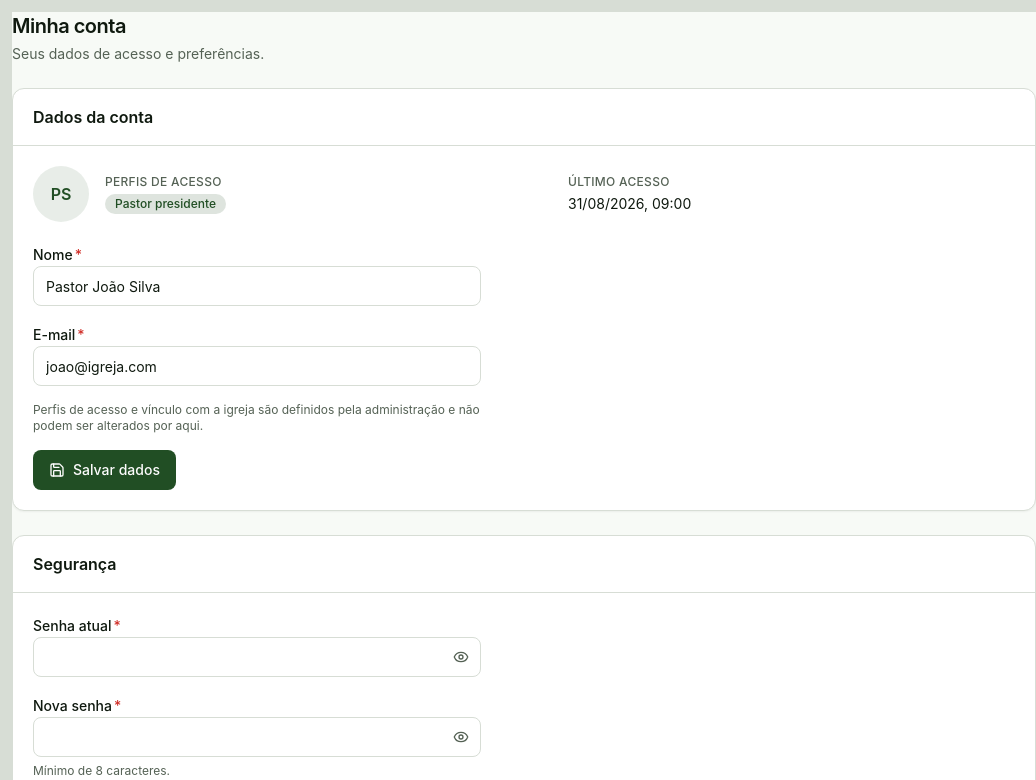
minha conta › mostra e-mail duplicado no campo de e-mail
Replace the text in the field labelled "E-mail*" with "ocupado@igreja.com": (257, 366) [33, 346, 481, 386]
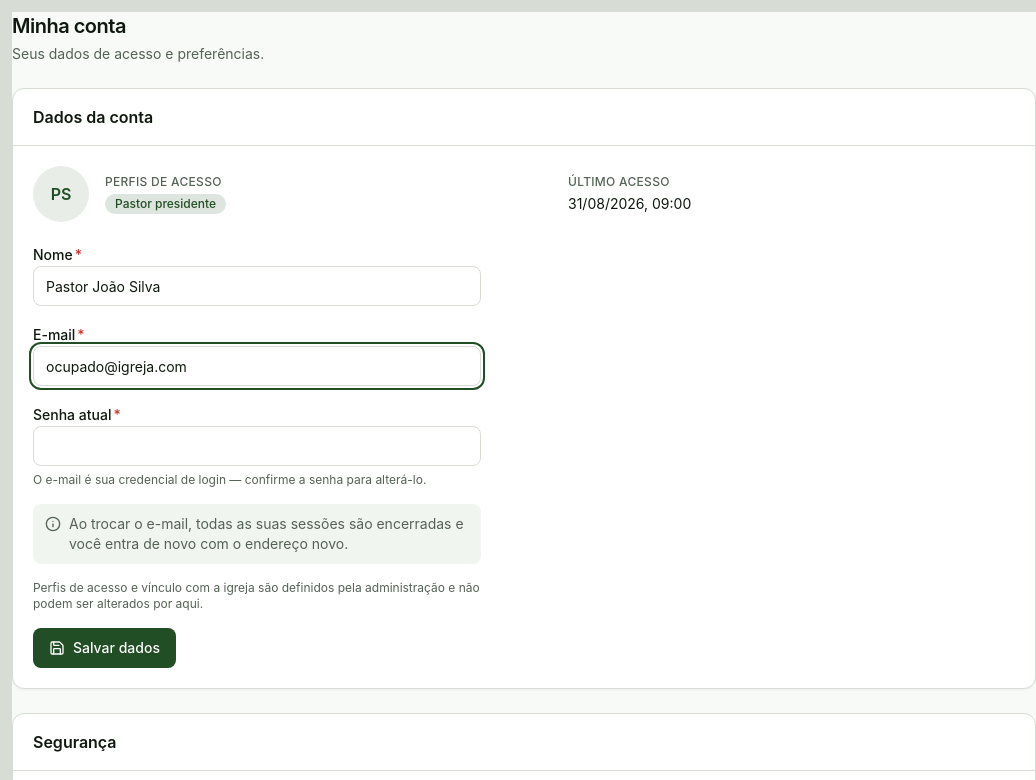
In the password field labelled "Senha atual*": (257, 446) [33, 426, 481, 466], type "senhaAtual123"
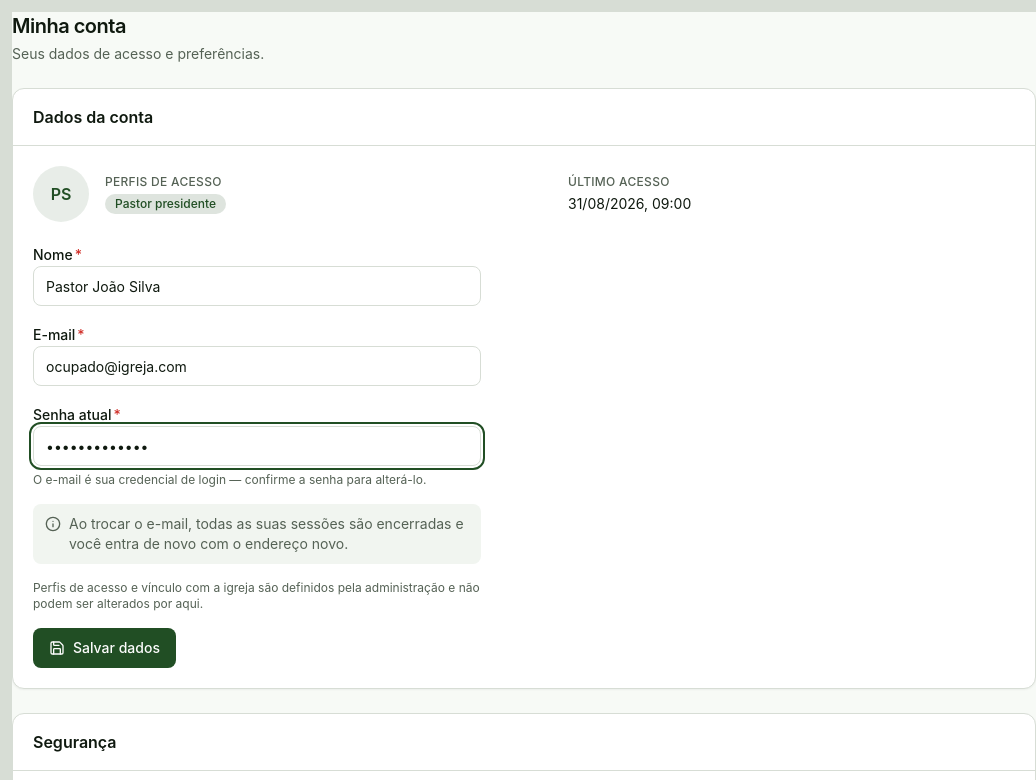
Click the button "Salvar dados": (104, 648) [33, 628, 176, 668]
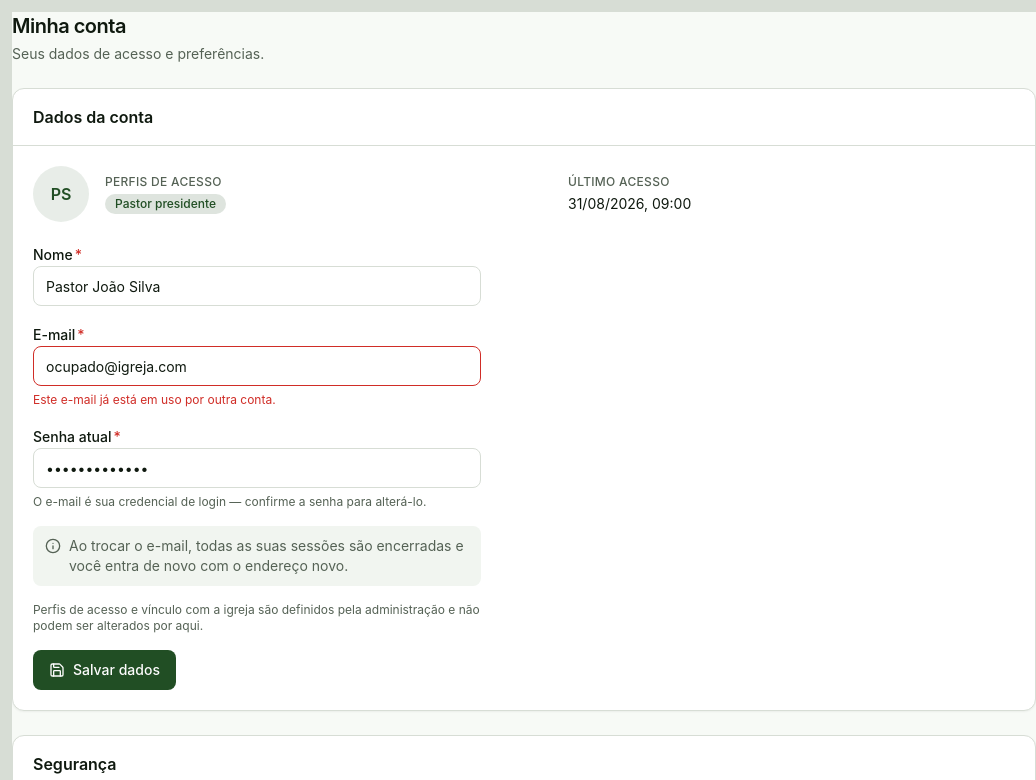
Result: the text "Este e-mail já está em uso por outra conta." is shown at [33, 392, 276, 407]
